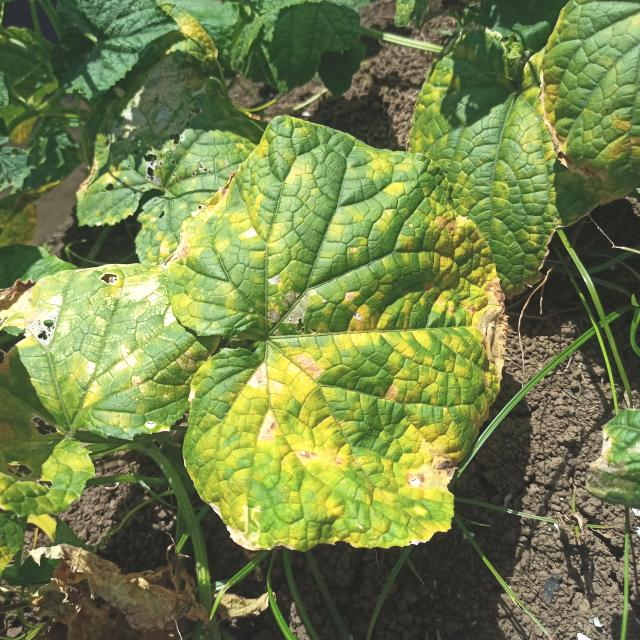disease_cucumber: (168, 115, 506, 535), (25, 261, 192, 445)
